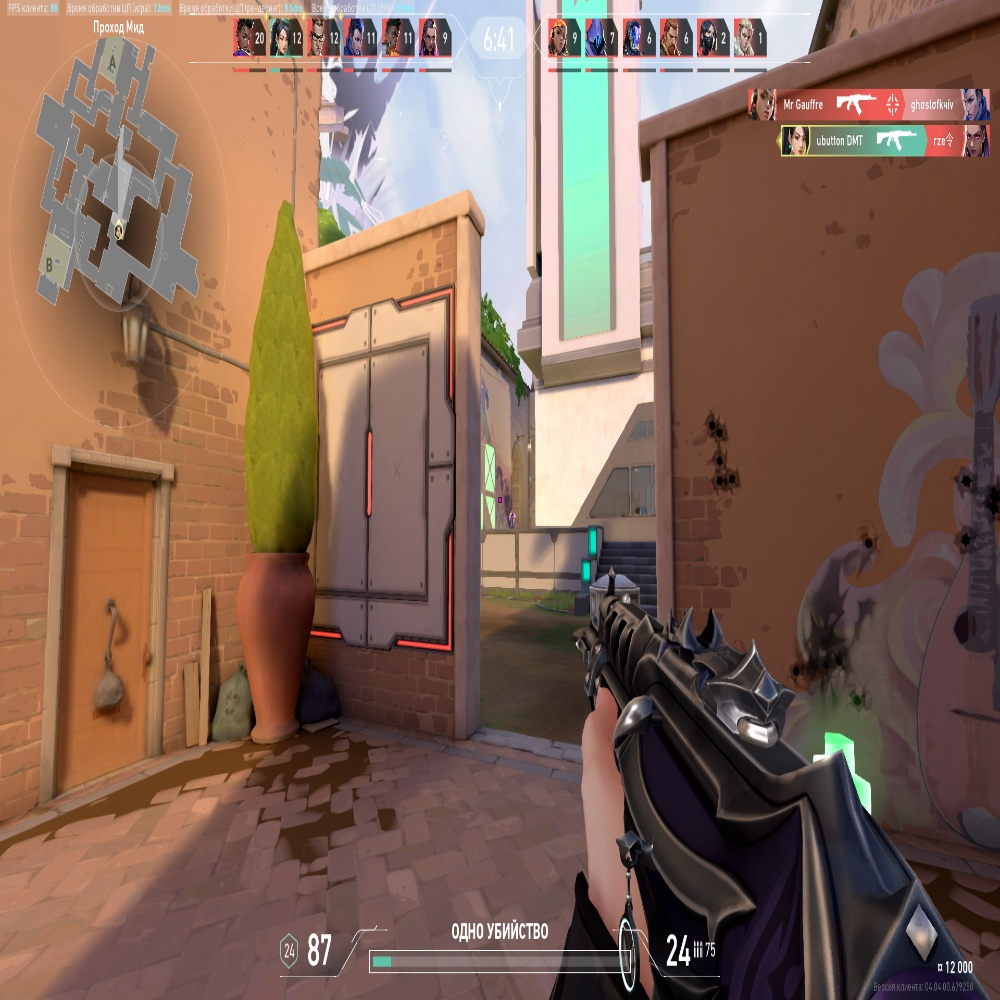body: (509, 514, 516, 528)
head: (511, 509, 514, 514)
